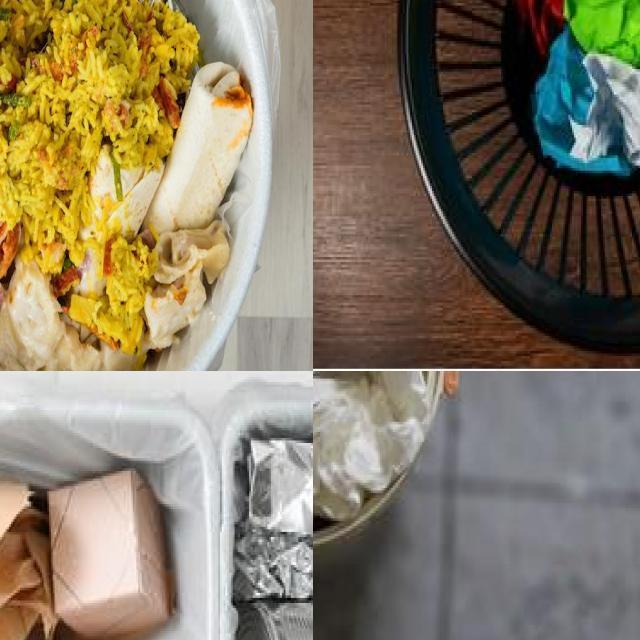Garbage: (0, 434, 313, 640)
Paper: (313, 0, 640, 367), (513, 0, 640, 175)
Plastic_Bag: (235, 439, 313, 600)
Plastic_wraper: (166, 0, 186, 14)
top_view_waste: (505, 0, 640, 196)
